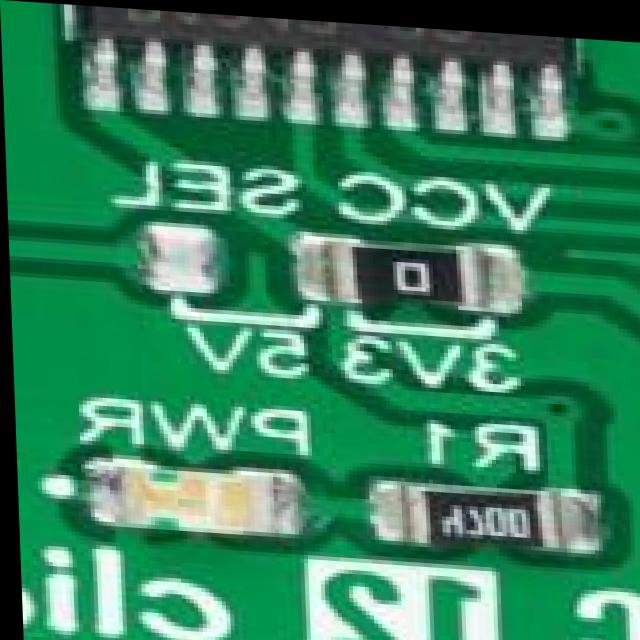IC: (84, 4, 573, 70)
LED: (53, 450, 275, 530)
resistor: (386, 483, 552, 562), (319, 240, 488, 309)
